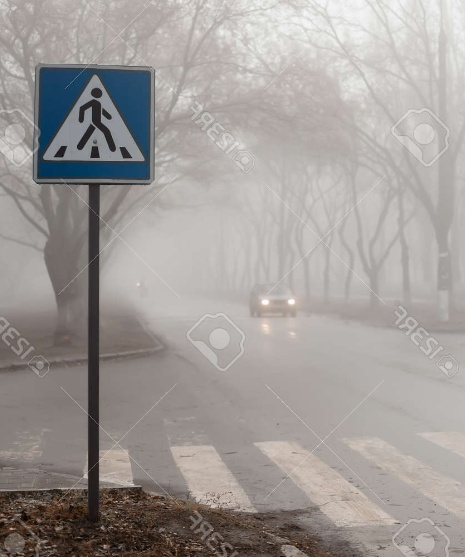Pedestrian crossing: (28, 64, 153, 182)
